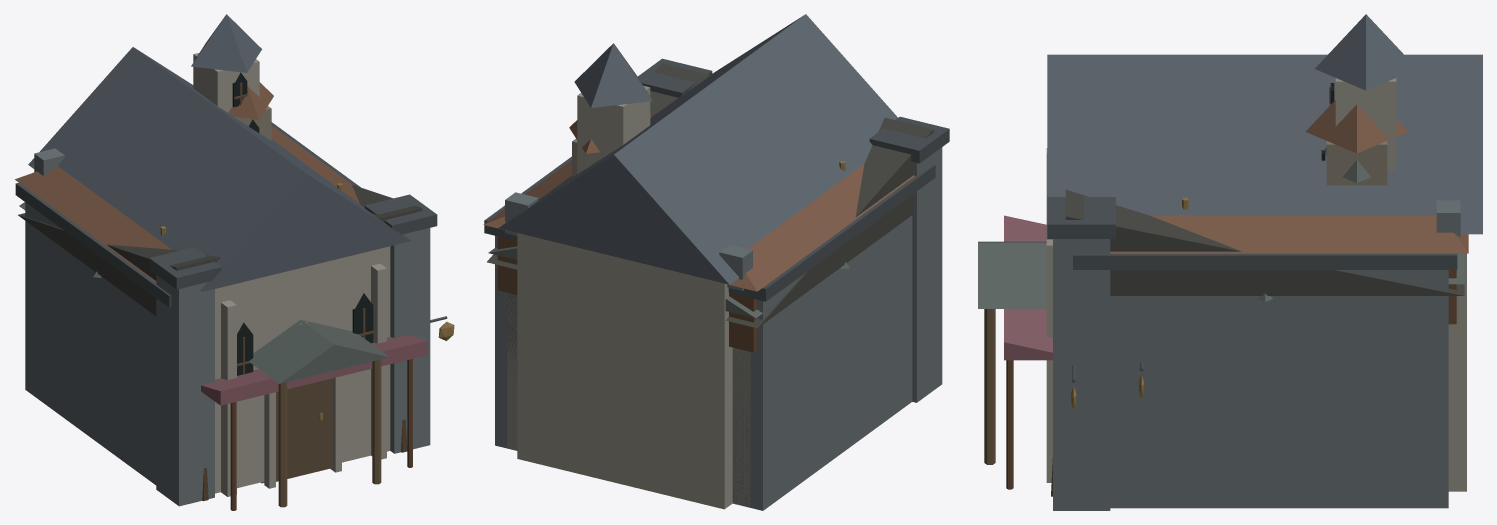
Rendered from village_buildings.glb.
3 views of the same model, side by side, from view 1: azimuth 30°, elevation 25°; view 2: azimuth 150°, elevation 25°; view 3: azimuth 270°, elevation 25° (orthographic). The views are drawn at different scales.
Visible parts, largest first — view 1: VIL_DAWN_CHAPEL, VIL_IRON_CHAPEL, VIL_MARKET_CHAPEL, VIL_CATHEDRAL_CHAPEL, VIL_OUTLAWS_CHAPEL; view 2: VIL_DAWN_CHAPEL, VIL_IRON_CHAPEL, VIL_MARKET_CHAPEL, VIL_OUTLAWS_CHAPEL, VIL_CATHEDRAL_CHAPEL; view 3: VIL_IRON_CHAPEL, VIL_DAWN_CHAPEL, VIL_MARKET_CHAPEL, VIL_OUTLAWS_CHAPEL, VIL_CATHEDRAL_CHAPEL.
Part boxes in pixels (left/top/right/bottom): VIL_DAWN_CHAPEL: left=28, top=14, right=411, bottom=496; VIL_IRON_CHAPEL: left=15, top=122, right=437, bottom=506; VIL_MARKET_CHAPEL: left=15, top=82, right=454, bottom=510; VIL_CATHEDRAL_CHAPEL: left=19, top=202, right=389, bottom=507; VIL_OUTLAWS_CHAPEL: left=18, top=184, right=422, bottom=501; VIL_DAWN_CHAPEL: left=498, top=14, right=897, bottom=509; VIL_IRON_CHAPEL: left=484, top=58, right=949, bottom=510; VIL_MARKET_CHAPEL: left=483, top=113, right=914, bottom=506; VIL_OUTLAWS_CHAPEL: left=487, top=63, right=933, bottom=507; VIL_CATHEDRAL_CHAPEL: left=488, top=246, right=762, bottom=507; VIL_IRON_CHAPEL: left=1047, top=197, right=1460, bottom=510; VIL_DAWN_CHAPEL: left=1046, top=14, right=1482, bottom=491; VIL_MARKET_CHAPEL: left=1004, top=100, right=1468, bottom=489; VIL_OUTLAWS_CHAPEL: left=1051, top=189, right=1464, bottom=496; VIL_CATHEDRAL_CHAPEL: left=978, top=147, right=1464, bottom=464.
Size of the model in its own units: 5.22 by 6.27 by 6.33.
